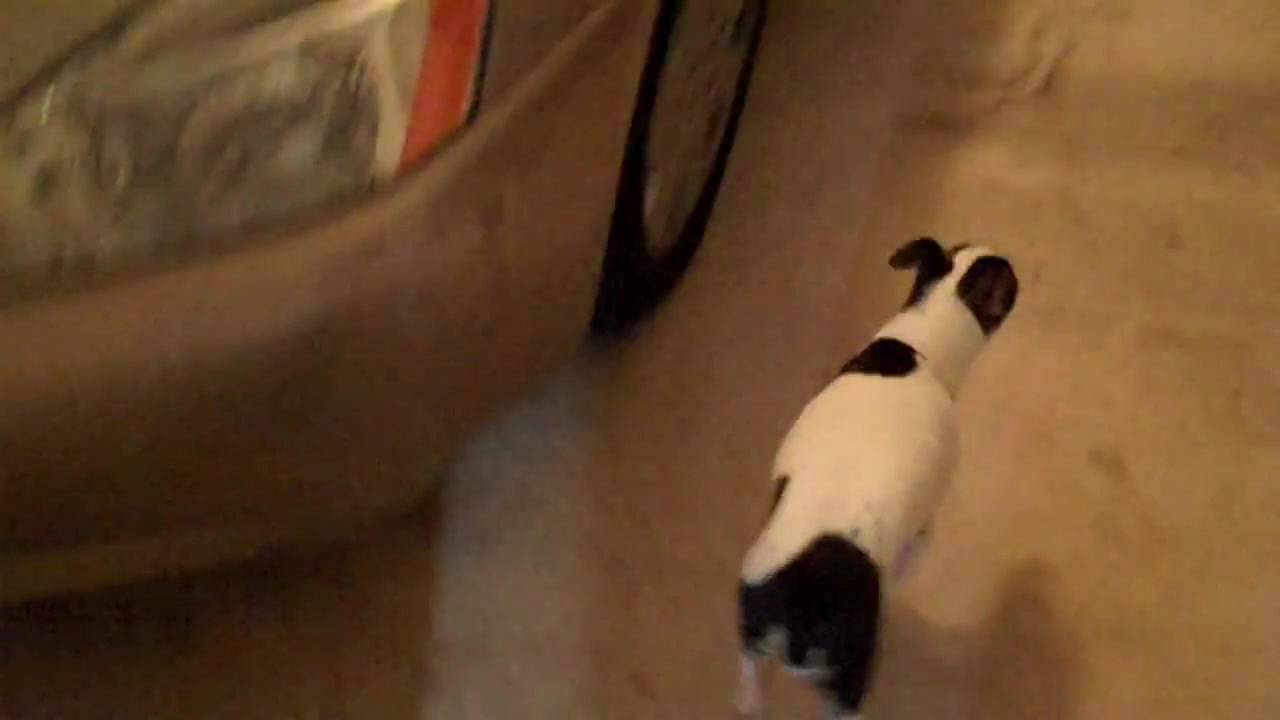dog: (730, 235, 1030, 720)
